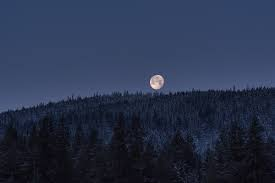moon: (149, 73, 165, 91)
